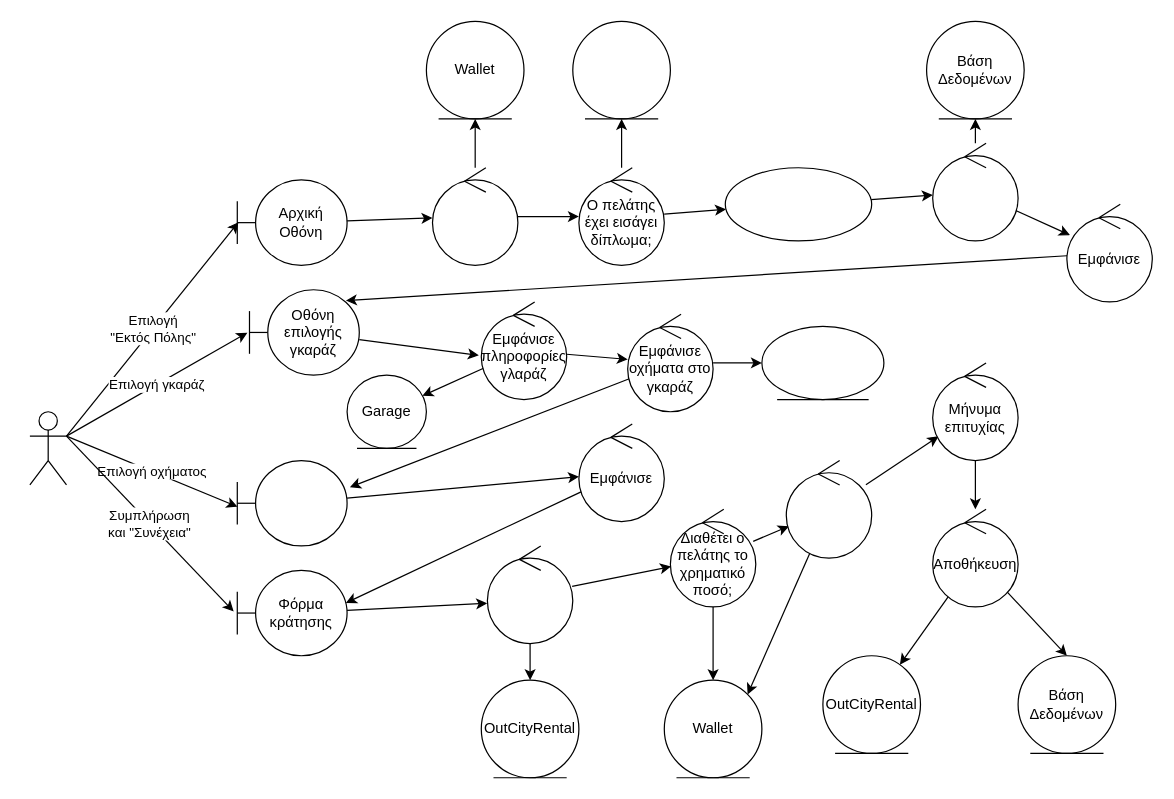
This 1174x799 diagram has some shape labels left out. The centre of each missing label's shape, as x and y in pixels:
"Customer" belongs at pixel 621 69.
"OutCityTransport" belongs at pixel 822 362.
"Έχει ο πελάτης χρέος;" belongs at pixel 474 216.
"Ανάκτηση γκαράζ" belongs at pixel 974 191.
"Αφαίρεση χρηματικού ποσού από πορτοφόλι" belongs at pixel 828 508.
"Είναι όλα τα στοιχεία έγκυρα;" belongs at pixel 529 594.
"Εισαγωγή Τοποθεσίας" belongs at pixel 798 204.
"Οθόνη επιλογής οχήματος" belongs at pixel 291 502.
"Πελάτης" belongs at pixel 47 448.
